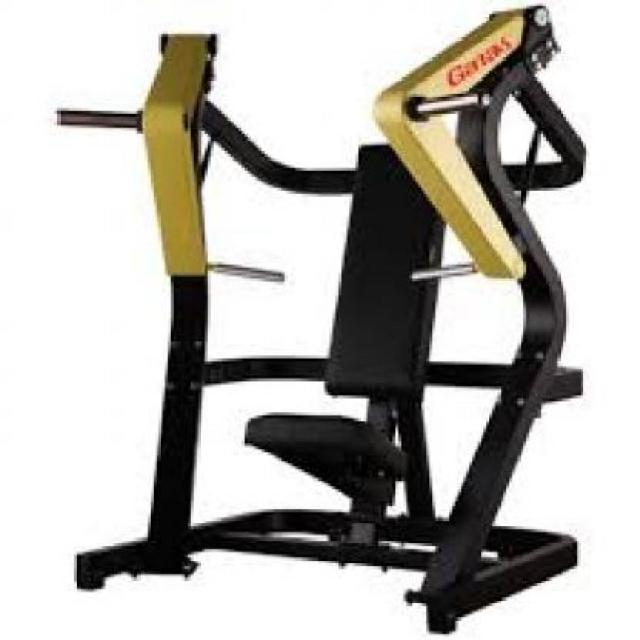Chest Press machine: (42, 0, 606, 640)
